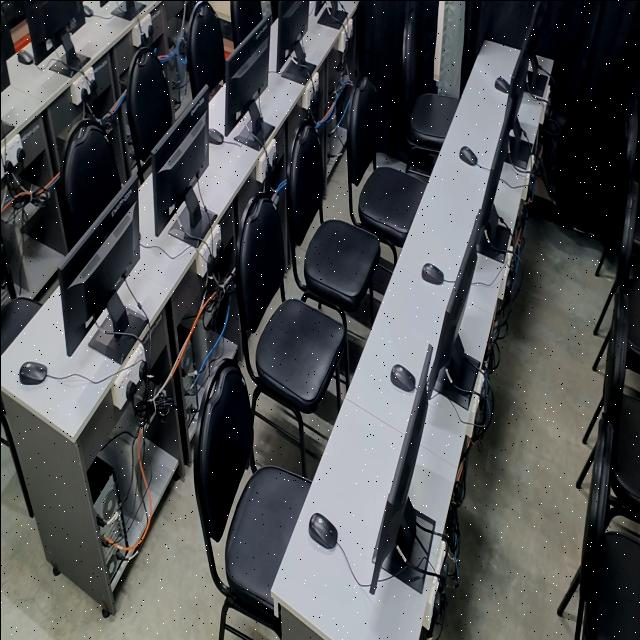Chair: (249, 206, 333, 412), (207, 370, 280, 590), (296, 132, 372, 310), (350, 81, 418, 242), (592, 431, 640, 640), (402, 0, 452, 150), (608, 333, 640, 523), (64, 113, 110, 231), (128, 39, 167, 157), (621, 196, 640, 378), (184, 0, 218, 94), (623, 102, 640, 260), (227, 0, 259, 39)
Cpu: (86, 464, 132, 580), (178, 328, 196, 424)
Monitor: (371, 356, 434, 604), (64, 190, 142, 377), (153, 94, 209, 256), (430, 218, 480, 396), (477, 100, 514, 266), (226, 16, 270, 152), (29, 0, 82, 86), (502, 25, 534, 161), (278, 0, 315, 76), (526, 0, 546, 93), (317, 0, 343, 28)
Mouse: (417, 252, 445, 296), (308, 508, 336, 550), (16, 354, 47, 388), (388, 356, 414, 396), (456, 140, 479, 170), (206, 120, 222, 150), (492, 70, 509, 98), (16, 44, 31, 70), (83, 2, 95, 18)
